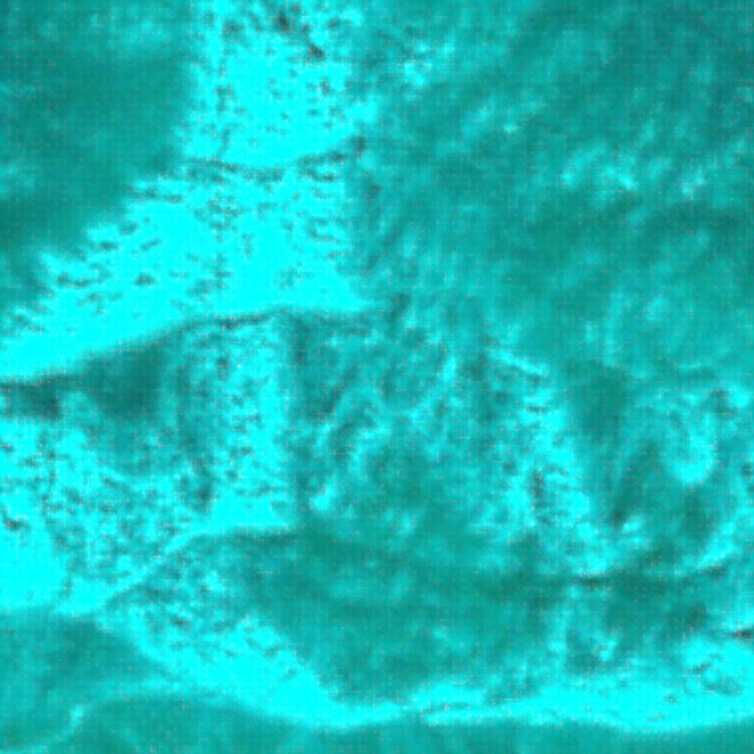rip_current: (240, 166, 565, 656)
